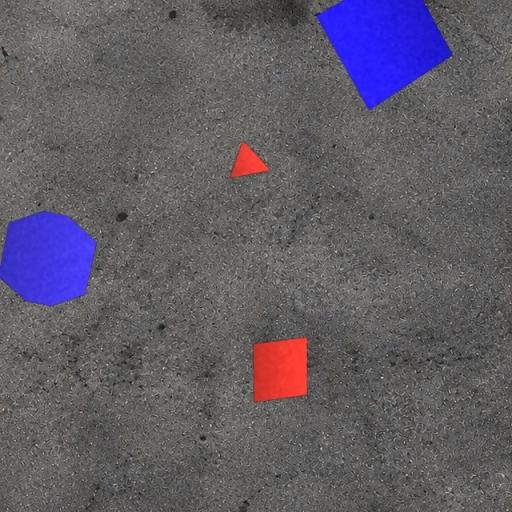BLUE_SQUARE: (315, 0, 454, 111)
RED_SQUARE: (252, 337, 308, 403)
